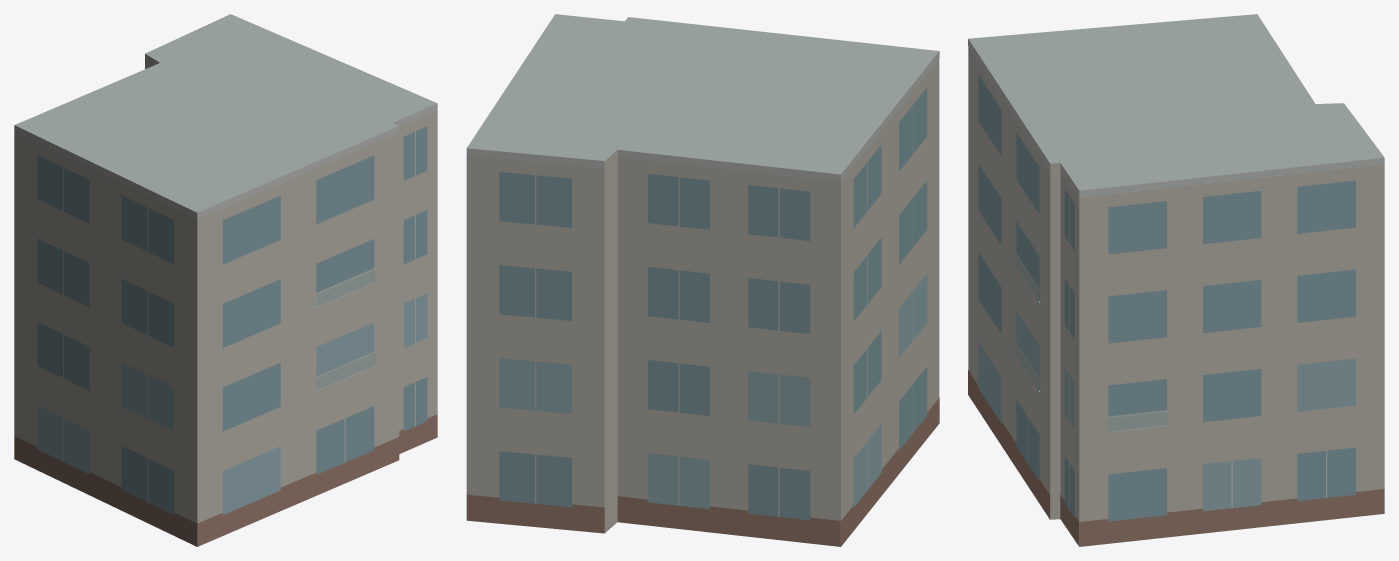
Rendered from survey-upis-32611896.glb.
The picture shows the model from 3 angles, left to right: view 1: azimuth 30°, elevation 25°; view 2: azimuth 150°, elevation 25°; view 3: azimuth 270°, elevation 25°; orthographic projection. The views are drawn at different scales.
Parts seen in each view (by area): view 1: survey-upis-32611896.tmp; view 2: survey-upis-32611896.tmp; view 3: survey-upis-32611896.tmp.
Boxes of the visible parts, x1,y1,x2,y2 form: survey-upis-32611896.tmp: [14, 14, 437, 546]; survey-upis-32611896.tmp: [466, 14, 939, 546]; survey-upis-32611896.tmp: [968, 14, 1384, 546].
Size of the model in its own units: 12.99 by 12.2 by 12.94.
